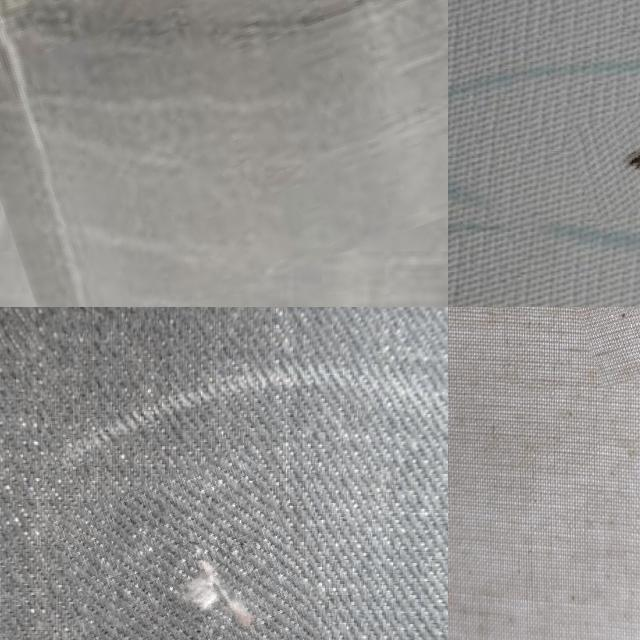Hole: (568, 99, 640, 216)
Thread_other: (66, 461, 324, 640), (545, 307, 640, 387)
